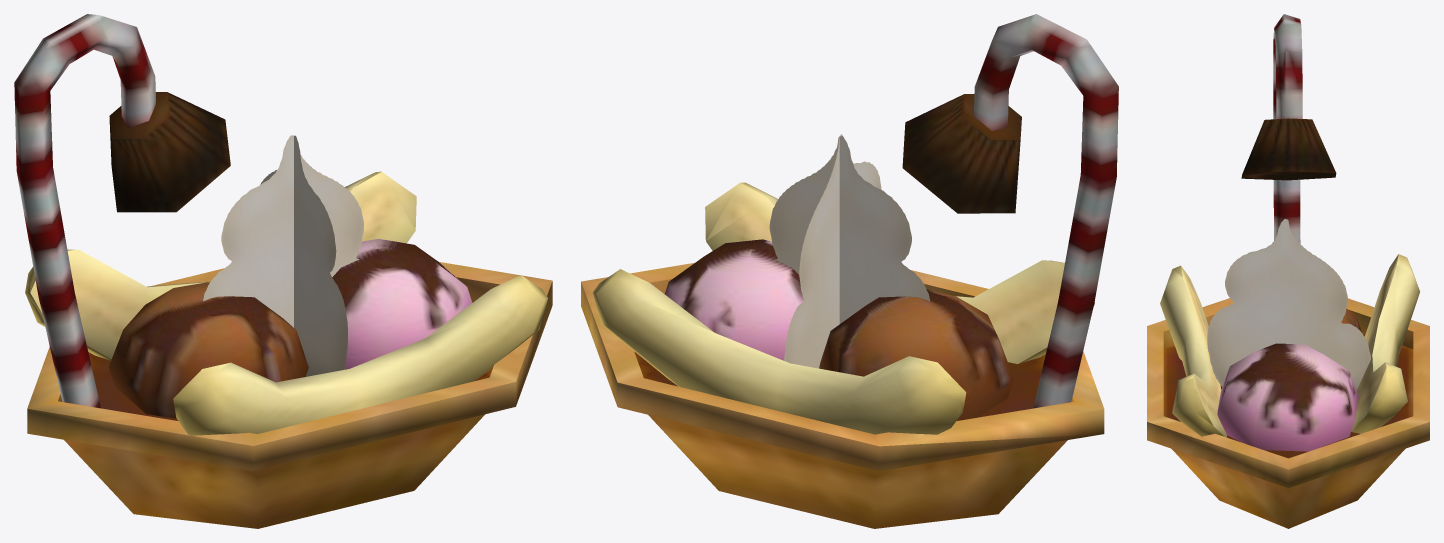
The model's file is BanannaSplitShower.glb.
3 views of the same model, side by side, from view 1: azimuth 30°, elevation 25°; view 2: azimuth 150°, elevation 25°; view 3: azimuth 270°, elevation 25° (orthographic). The views are drawn at different scales.
Visible parts, largest first — view 1: waffelBowl, banana2, IceceamSandwichBed, choIcecream, StraIcecream, pbCup, banana1, polySurface2, polySurface4, polySurface1; view 2: waffelBowl, banana1, IceceamSandwichBed, choIcecream, pbCup, StraIcecream, banana2, polySurface2, polySurface3, polySurface1, polySurface4; view 3: waffelBowl, StraIcecream, polySurface4, polySurface3, banana1, banana2, pbCup, IceceamSandwichBed.
Boxes of the visible parts, x1=… form: waffelBowl: x1=27, y1=262, x2=552, y2=528; banana2: x1=173, y1=275, x2=548, y2=435; IceceamSandwichBed: x1=14, y1=14, x2=155, y2=408; choIcecream: x1=108, y1=282, x2=308, y2=418; StraIcecream: x1=332, y1=238, x2=472, y2=369; pbCup: x1=109, y1=92, x2=230, y2=212; banana1: x1=25, y1=171, x2=416, y2=360; polySurface2: x1=203, y1=135, x2=293, y2=327; polySurface4: x1=294, y1=135, x2=347, y2=376; polySurface1: x1=300, y1=155, x2=363, y2=277; waffelBowl: x1=581, y1=263, x2=1104, y2=528; banana1: x1=593, y1=269, x2=966, y2=434; IceceamSandwichBed: x1=974, y1=14, x2=1118, y2=408; choIcecream: x1=819, y1=289, x2=1013, y2=420; pbCup: x1=902, y1=94, x2=1021, y2=213; StraIcecream: x1=665, y1=239, x2=803, y2=360; banana2: x1=705, y1=182, x2=1094, y2=363; polySurface2: x1=837, y1=136, x2=930, y2=323; polySurface3: x1=784, y1=146, x2=838, y2=368; polySurface1: x1=769, y1=145, x2=837, y2=274; polySurface4: x1=838, y1=134, x2=881, y2=324; waffelBowl: x1=1147, y1=298, x2=1429, y2=528; StraIcecream: x1=1217, y1=343, x2=1358, y2=451; polySurface4: x1=1207, y1=219, x2=1289, y2=386; polySurface3: x1=1289, y1=227, x2=1370, y2=389; banana1: x1=1351, y1=254, x2=1419, y2=433; banana2: x1=1160, y1=265, x2=1227, y2=437; pbCup: x1=1241, y1=118, x2=1336, y2=180; IceceamSandwichBed: x1=1273, y1=14, x2=1302, y2=243.
Bounding box in the file's own units: 9.08 × 8.24 × 5.55.
4 materials, 4 textured.
